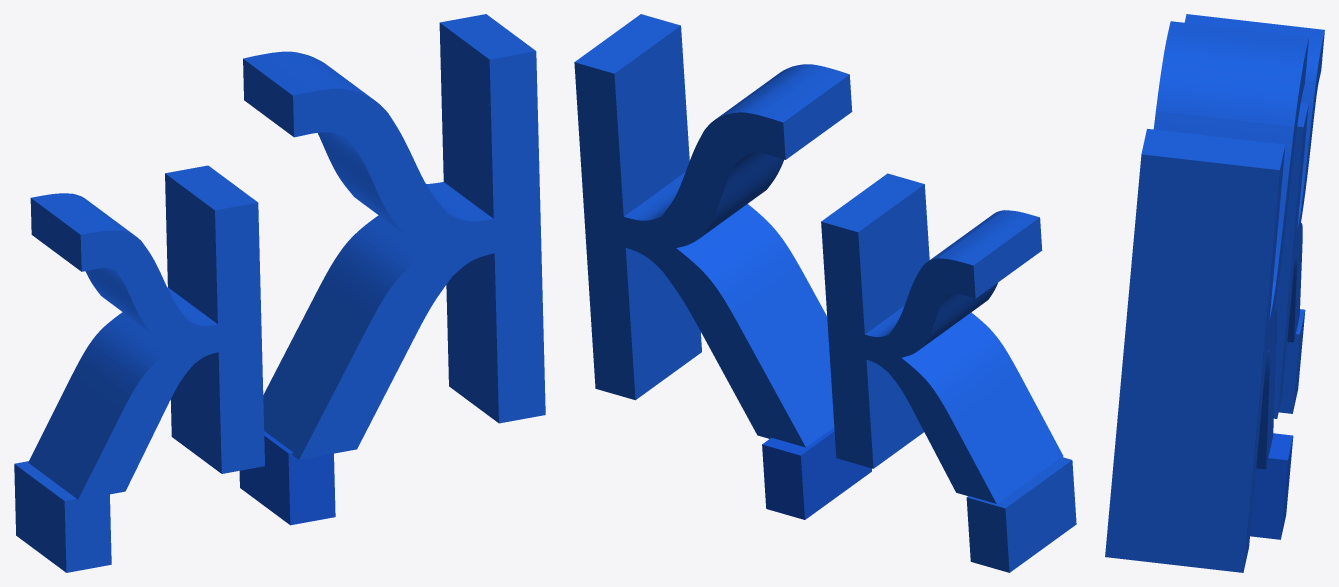
The picture shows the model from 3 angles, left to right: view 1: azimuth 30°, elevation 25°; view 2: azimuth 150°, elevation 25°; view 3: azimuth 270°, elevation 25°; orthographic projection. The views are drawn at different scales.
Parts seen in each view (by area): view 1: Mesh_0.002, Куб.001, Куб; view 2: Mesh_0.002, Куб.001, Куб; view 3: Mesh_0.002, Куб, Куб.001.
Part boxes in pixels (bbox=[...]): Mesh_0.002: bbox=[28, 14, 545, 500]; Куб.001: bbox=[14, 461, 111, 572]; Куб: bbox=[239, 431, 335, 525]; Mesh_0.002: bbox=[574, 14, 1063, 503]; Куб.001: bbox=[966, 457, 1076, 572]; Куб: bbox=[762, 427, 871, 519]; Mesh_0.002: bbox=[1105, 14, 1324, 572]; Куб: bbox=[1250, 433, 1293, 539]; Куб.001: bbox=[1279, 309, 1305, 413].
Bounding box in the file's own units: 10.01 × 8.69 × 3.49.
